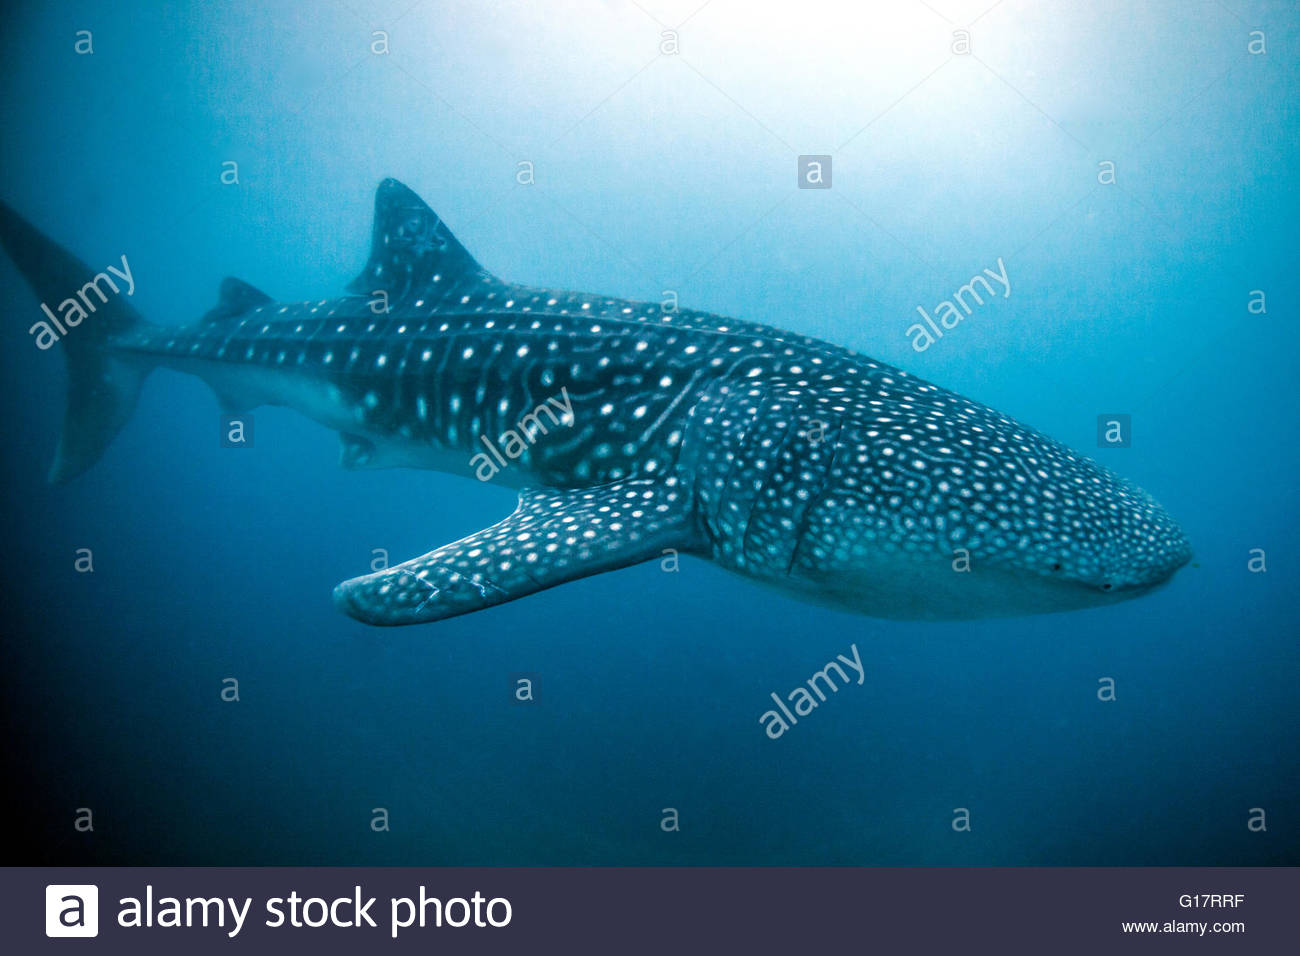Rhincodon_typusw: (2, 160, 1214, 664)
